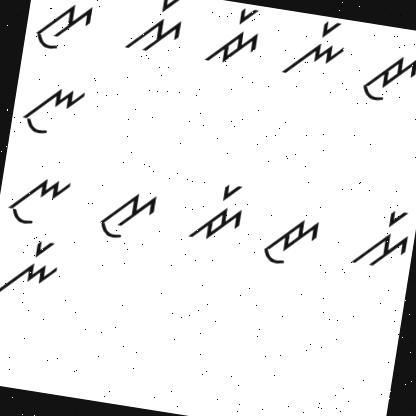jar: (178, 172, 249, 250), (198, 1, 265, 71)
jaw: (257, 201, 322, 276), (357, 41, 416, 110)
nyar: (274, 12, 348, 86)
nyaw: (2, 162, 74, 235), (15, 74, 88, 142)
sar: (339, 198, 416, 275), (0, 232, 63, 312), (121, 0, 188, 63)
saw: (93, 180, 166, 254), (29, 0, 97, 56)
